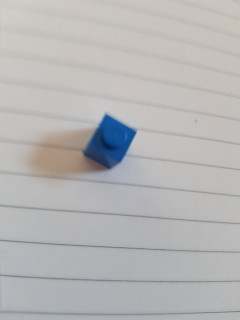1x1 blue: (80, 110, 139, 172)
